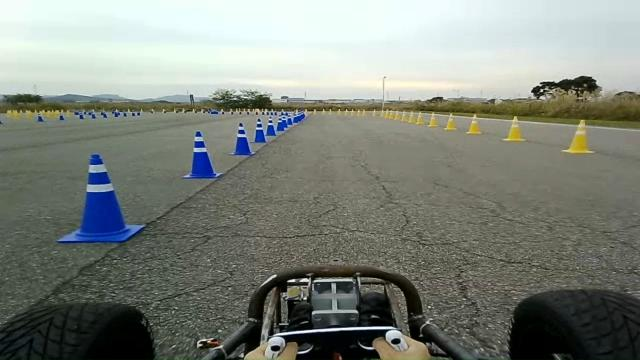blue cone: (56, 153, 145, 243), (182, 130, 222, 179), (229, 122, 255, 155), (253, 118, 267, 142), (265, 117, 277, 136), (276, 119, 287, 131)
yellow cone: (560, 119, 594, 154), (502, 116, 525, 142), (466, 113, 481, 134), (443, 113, 457, 130), (427, 112, 438, 127), (415, 112, 424, 124), (407, 111, 415, 123), (400, 111, 408, 121)
